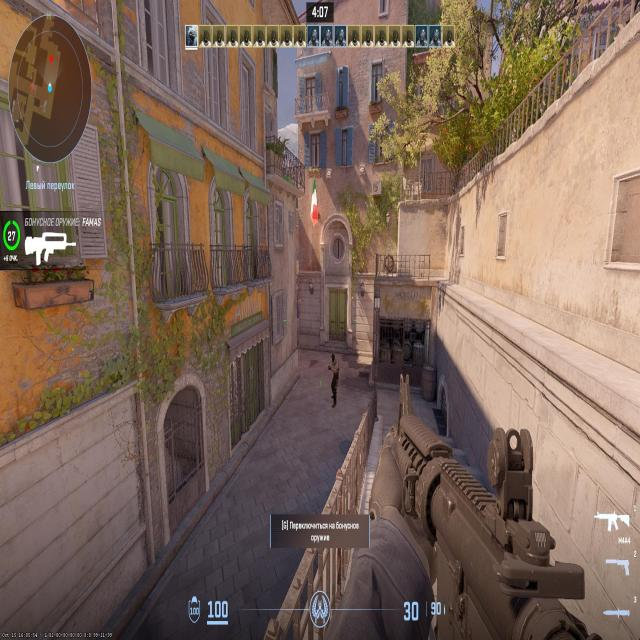T: (330, 352, 338, 404)
T_heat: (332, 355, 337, 364)
